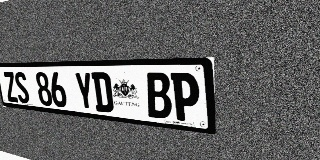6: (48, 72, 68, 108)
8: (34, 72, 53, 106)
B: (145, 72, 172, 120)
D: (91, 72, 114, 113)
P: (171, 73, 200, 123)
S: (13, 72, 31, 104)
Y: (74, 72, 95, 111)
Z: (3, 72, 19, 103)
